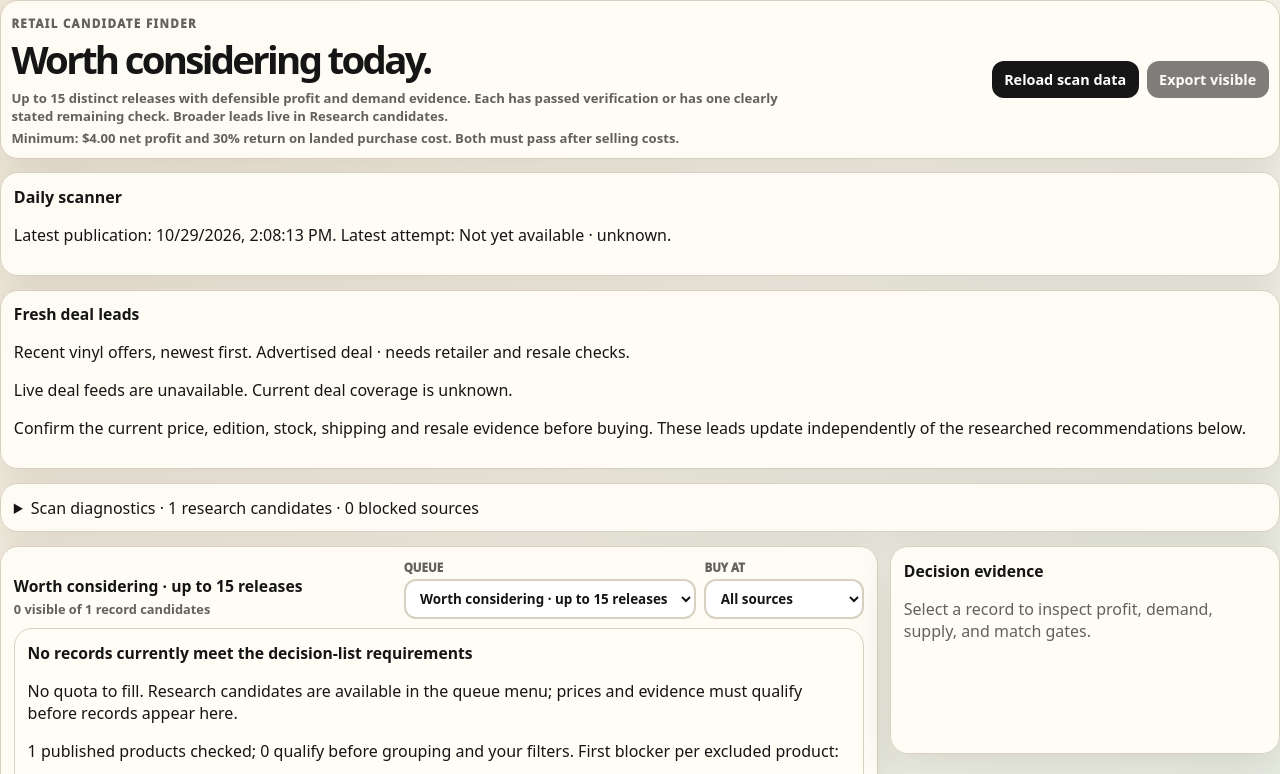
Test: arbitrage pages › shows observed album purchases as research context without inventing exact pressing proof
This screenshot has width=1280, height=774.
Select "Everything" in the dropdown labelled "Queue" at (550, 599), box [404, 579, 696, 619]
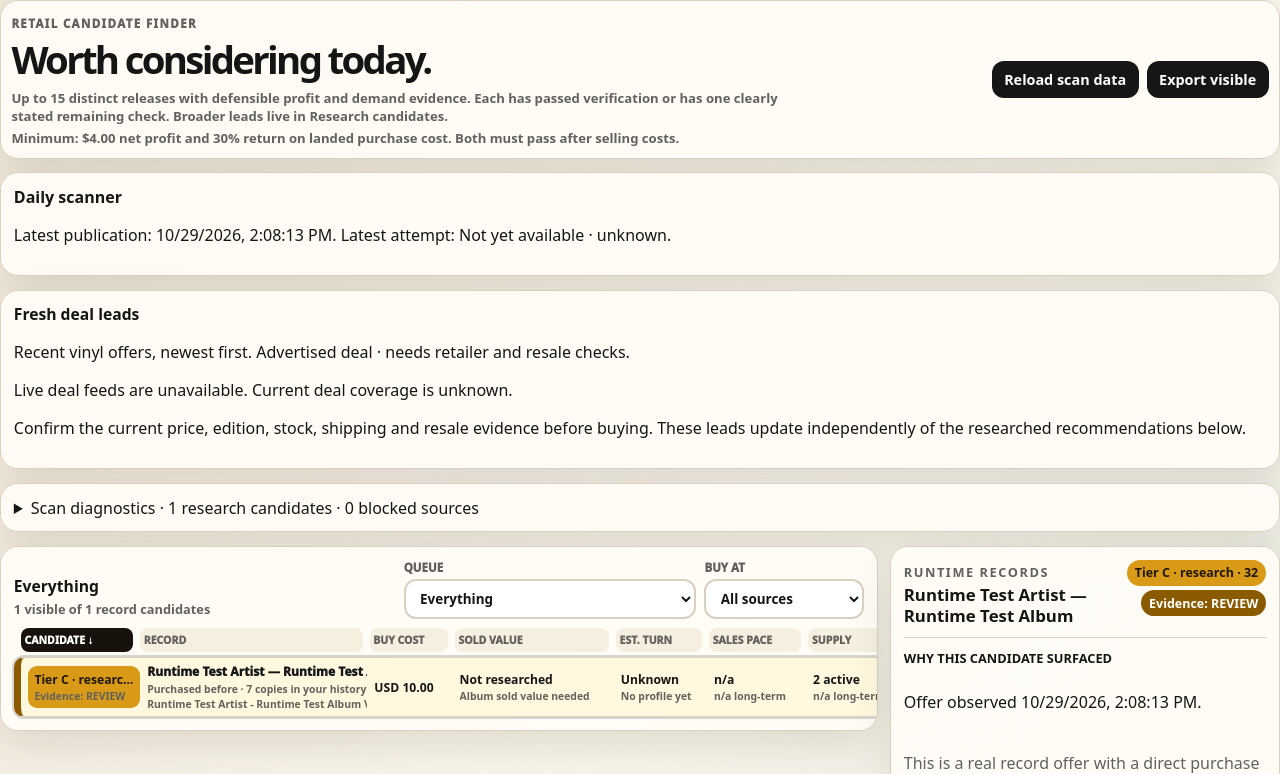
Result: the text "Purchased before · 7 copies in your history" is shown at [147, 682, 367, 696]
